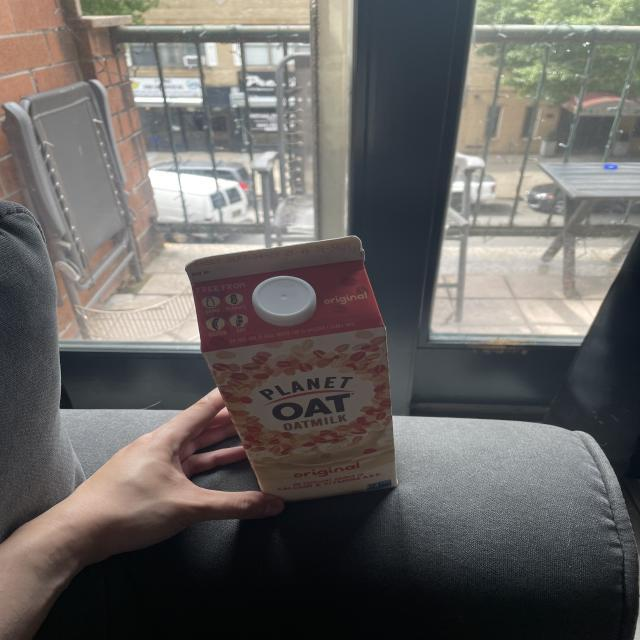Planet Oat Original: (178, 232, 420, 510)
